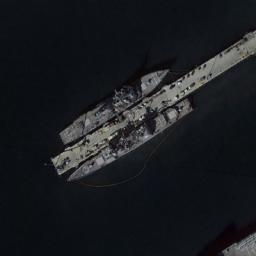boat: (63, 95, 199, 191), (57, 61, 177, 149)
